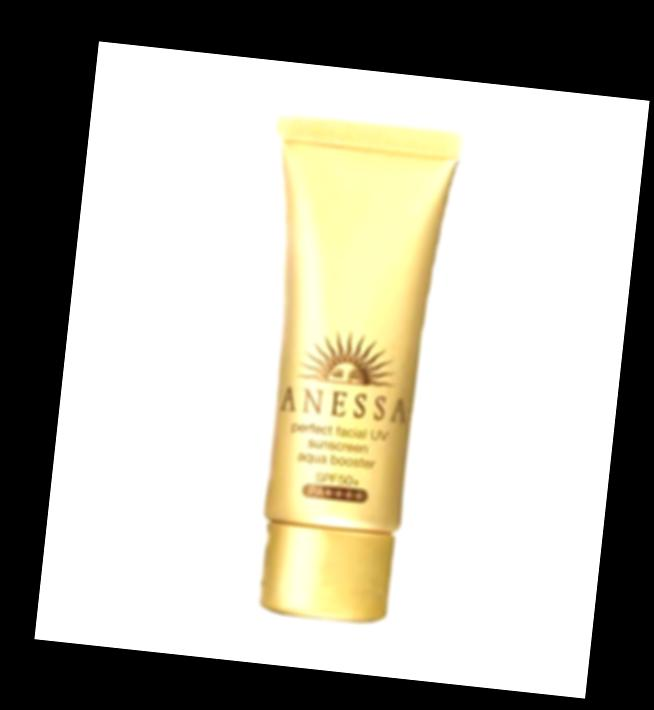cosmetic: (220, 113, 463, 628)
